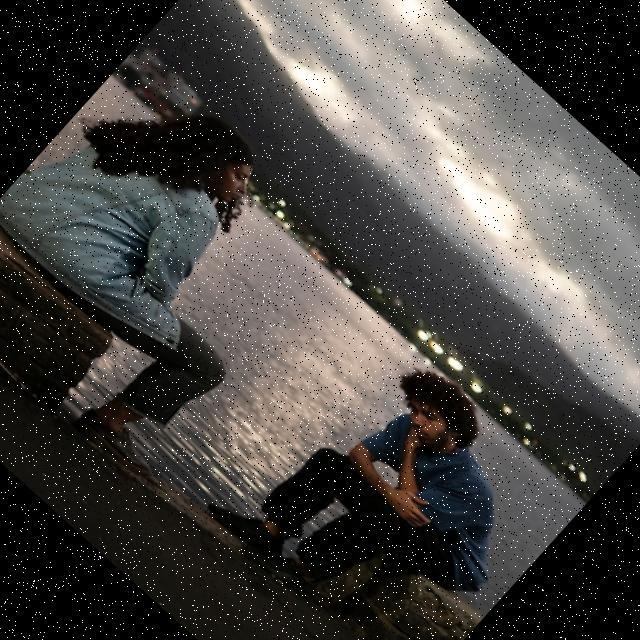Person: (0, 41, 359, 484), (195, 314, 570, 640)
